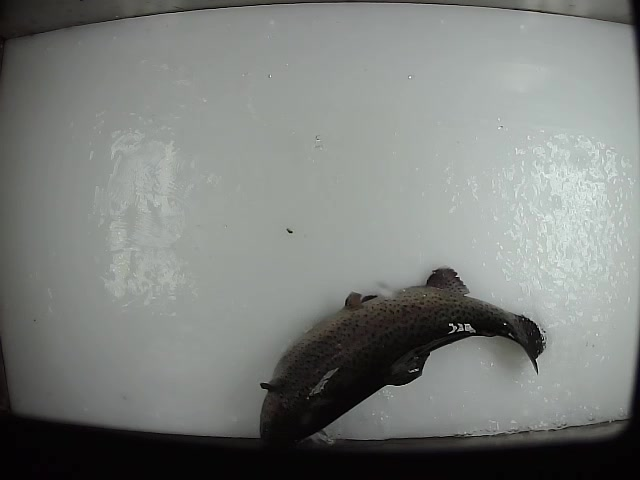fish: (257, 259, 547, 455)
